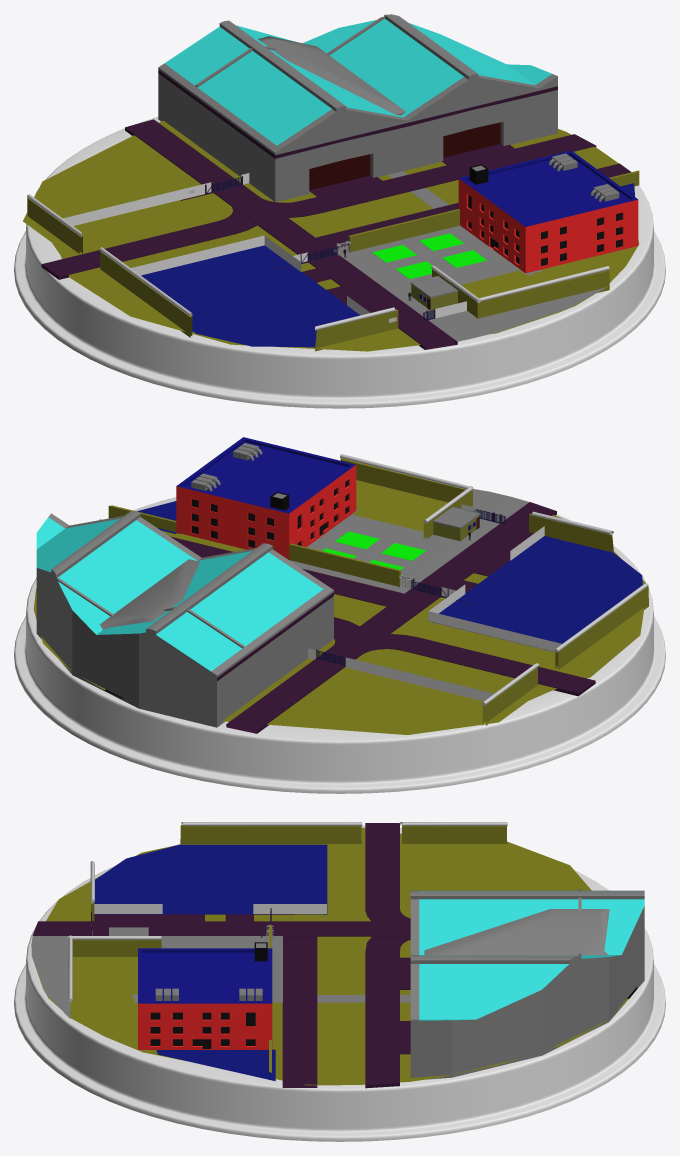
File: defence_demo_v3.fbx
3 renders of one model, top to bottom at view 1: azimuth 30°, elevation 25°; view 2: azimuth 150°, elevation 25°; view 3: azimuth 270°, elevation 25°, orthographic.
Visible parts, largest first — view 1: Box002, Cylinder009, Plane001, Line002, Box003, Line001, Line004, Box036, Line003, Cylinder006, Box004; view 2: Box002, Cylinder009, Plane001, Line002, Box003, Line001, Line004, Box036, Line003, Box004, Cylinder006; view 3: Cylinder009, Line002, Plane001, Box002, Box003, Line001, Box036, Line003, Line004.
Boxes of the visible parts, left/top/right/bottom form: Box002: left=158, top=14, right=557, bottom=202; Cylinder009: left=14, top=117, right=665, bottom=408; Plane001: left=23, top=120, right=639, bottom=351; Line002: left=41, top=119, right=634, bottom=349; Box003: left=458, top=150, right=638, bottom=273; Line001: left=27, top=170, right=639, bottom=351; Line004: left=63, top=173, right=466, bottom=318; Box036: left=258, top=36, right=405, bottom=115; Line003: left=27, top=194, right=609, bottom=330; Cylinder006: left=372, top=233, right=486, bottom=279; Box004: left=410, top=276, right=458, bottom=310; Box002: left=36, top=511, right=333, bottom=727; Cylinder009: left=14, top=497, right=665, bottom=793; Plane001: left=33, top=480, right=645, bottom=734; Line002: left=100, top=501, right=642, bottom=733; Box003: left=176, top=437, right=356, bottom=559; Line001: left=108, top=458, right=648, bottom=725; Line004: left=308, top=504, right=561, bottom=701; Box036: left=100, top=559, right=199, bottom=629; Line003: left=340, top=454, right=648, bottom=705; Box004: left=433, top=506, right=480, bottom=541; Cylinder006: left=322, top=531, right=425, bottom=569; Cylinder009: left=14, top=825, right=665, bottom=1141; Line002: left=32, top=823, right=410, bottom=1088; Plane001: left=31, top=827, right=637, bottom=1085; Box002: left=410, top=889, right=644, bottom=1079; Box003: left=138, top=948, right=272, bottom=1049; Line001: left=69, top=824, right=507, bottom=1072; Box036: left=424, top=909, right=609, bottom=955; Line003: left=68, top=822, right=507, bottom=1002; Line004: left=94, top=904, right=326, bottom=913.
Bounding box in the file's own units: 115 × 115 × 25.27.
